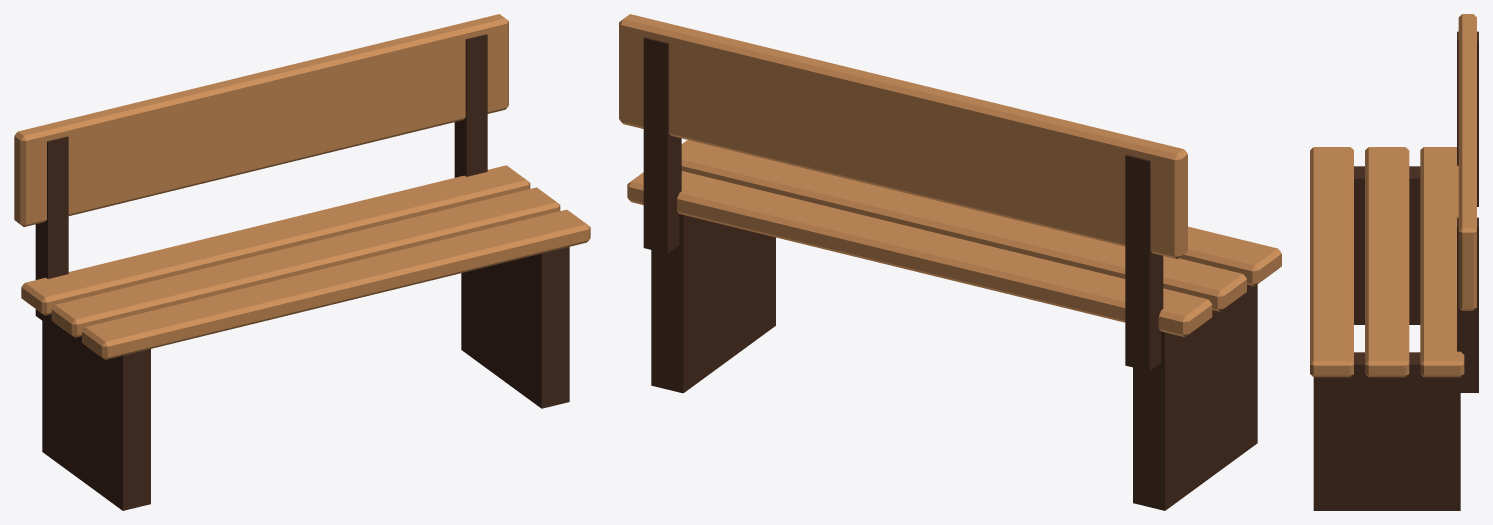
Rendered from bench.glb.
3 renders of one model, left to right at view 1: azimuth 30°, elevation 25°; view 2: azimuth 150°, elevation 25°; view 3: azimuth 270°, elevation 25°, orthographic. The views are drawn at different scales.
Visible parts, largest first — view 1: bench; view 2: bench; view 3: bench.
Part boxes in pixels (x1,y1,x2,y2): bench: [14, 14, 590, 510]; bench: [619, 14, 1281, 510]; bench: [1310, 14, 1478, 510].
Size of the model in its own units: 1.4 by 0.875 by 0.46.
